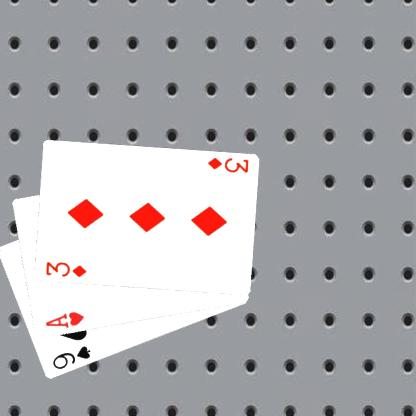3D: (43, 258, 88, 278), (204, 155, 249, 174)
9S: (50, 344, 92, 371)
AH: (42, 309, 85, 330)
